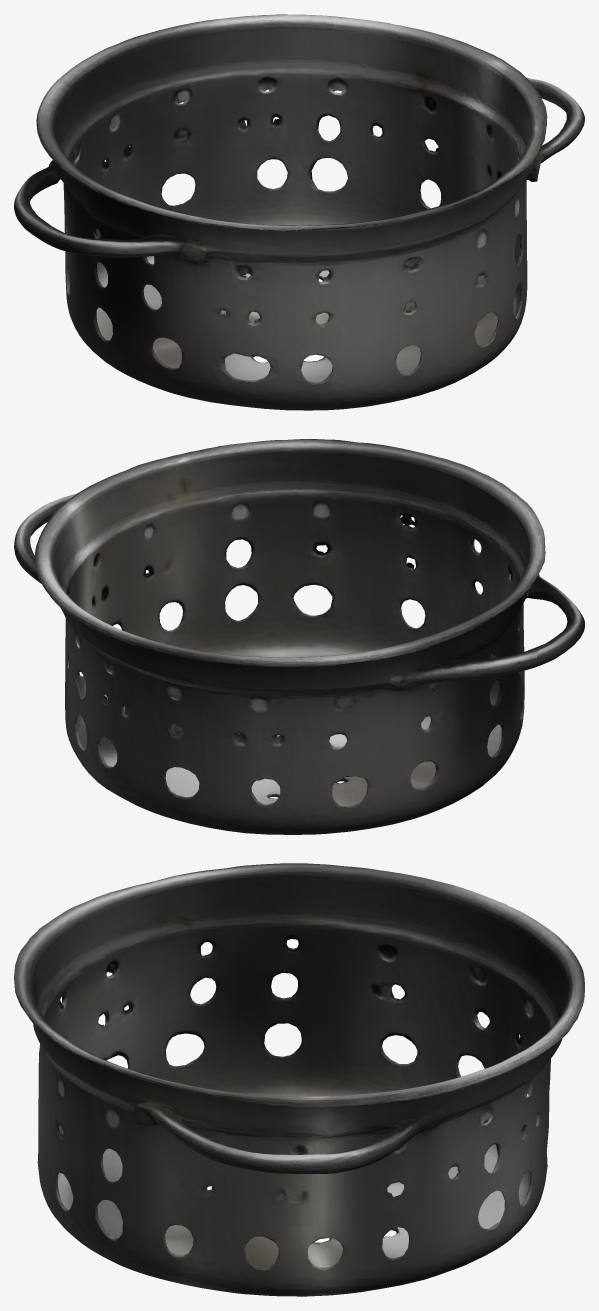
3 views of the same model, one above another, from view 1: azimuth 30°, elevation 25°; view 2: azimuth 150°, elevation 25°; view 3: azimuth 270°, elevation 25° (orthographic). The views are drawn at different scales.
Visible parts, largest first — view 1: world; view 2: world; view 3: world.
Boxes of the visible parts, x1=… form: world: x1=14, y1=14, x2=584, y2=410; world: x1=14, y1=439, x2=584, y2=834; world: x1=14, y1=863, x2=584, y2=1296.
Size of the model in its own units: 0.1011 by 0.037 by 0.0847.
Materials: 1 (1 with a texture image).
